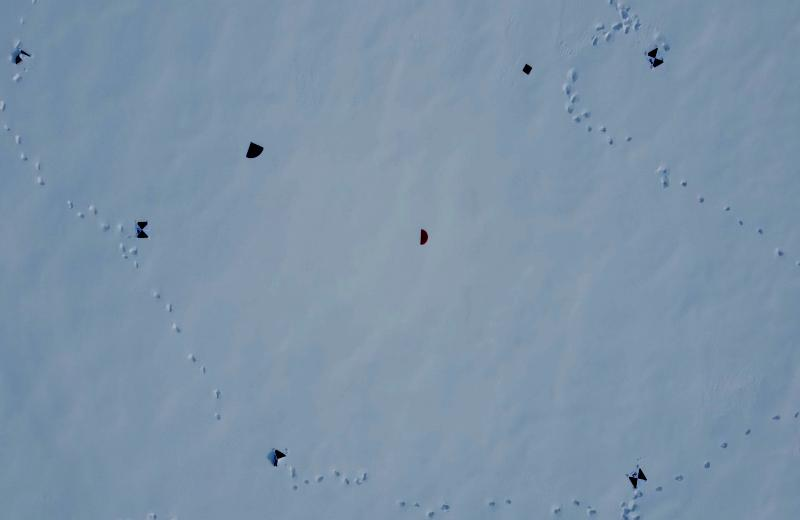Quarter Circle: (244, 140, 264, 160)
Semi Circle: (418, 228, 429, 246)
Square: (521, 62, 533, 78)
